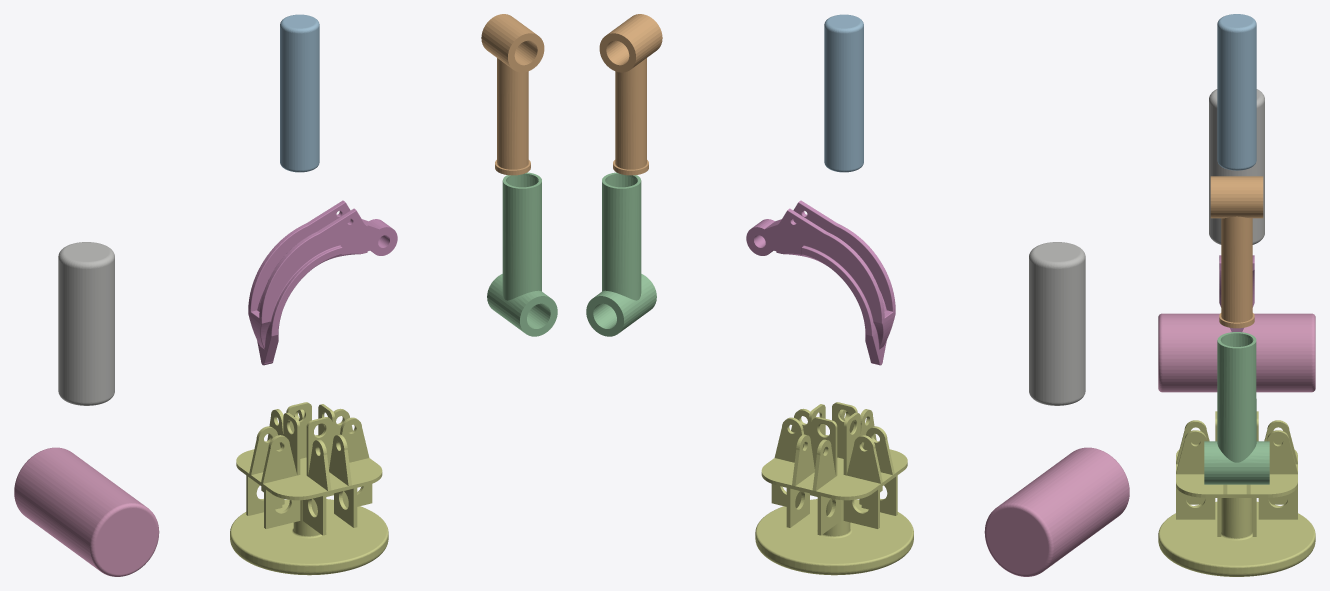
File: 2211_library_parts.glb
3 views of the same model, side by side, from view 1: azimuth 30°, elevation 25°; view 2: azimuth 150°, elevation 25°; view 3: azimuth 270°, elevation 25° (orthographic).
Parts seen in each view (by area): view 1: lib00001, lib00007, lib00005, lib00002, lib00004, lib00006, lib00003; view 2: lib00001, lib00007, lib00005, lib00002, lib00004, lib00006, lib00003; view 3: lib00001, lib00007, lib00004, lib00006, lib00003, lib00005, lib00002.
Part boxes in pixels (bbox=[...]): lib00001: bbox=[230, 402, 388, 575]; lib00007: bbox=[14, 447, 159, 576]; lib00005: bbox=[58, 242, 114, 405]; lib00002: bbox=[248, 200, 397, 365]; lib00004: bbox=[487, 172, 557, 336]; lib00006: bbox=[280, 14, 319, 172]; lib00003: bbox=[481, 14, 544, 175]; lib00001: bbox=[755, 402, 913, 575]; lib00007: bbox=[984, 447, 1129, 576]; lib00005: bbox=[1029, 242, 1085, 405]; lib00002: bbox=[746, 200, 895, 365]; lib00004: bbox=[586, 172, 656, 336]; lib00006: bbox=[824, 14, 863, 172]; lib00003: bbox=[599, 14, 662, 175]; lib00001: bbox=[1158, 411, 1315, 576]; lib00007: bbox=[1158, 313, 1315, 392]; lib00004: bbox=[1204, 332, 1269, 484]; lib00006: bbox=[1217, 14, 1256, 170]; lib00003: bbox=[1210, 176, 1263, 328]; lib00005: bbox=[1209, 89, 1264, 244]; lib00002: bbox=[1219, 255, 1254, 332].
Size of the model in its own units: 516 by 529 by 145.
